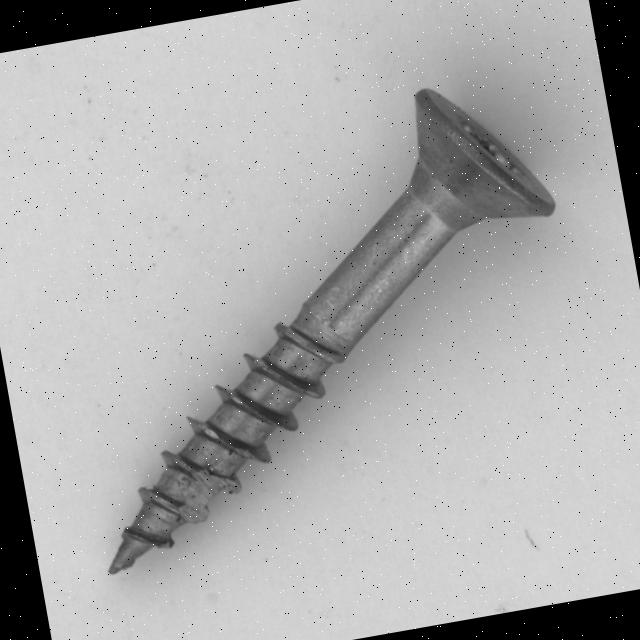thread_top: (162, 453, 244, 528)
